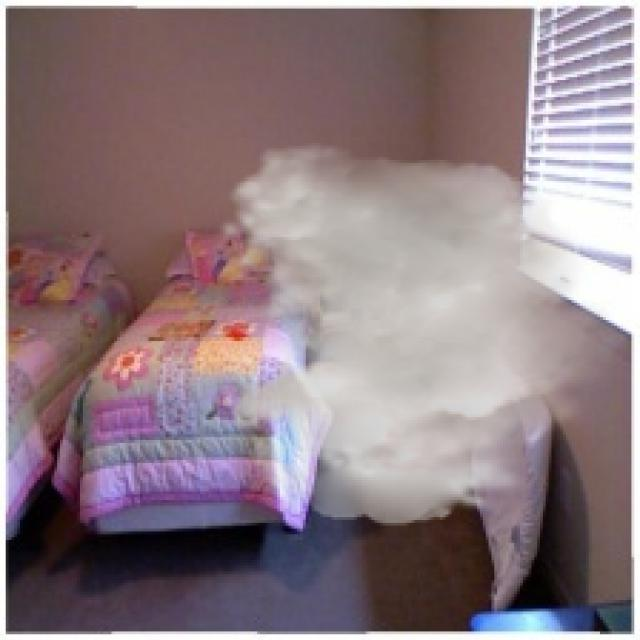Smoke: (217, 143, 637, 526)
